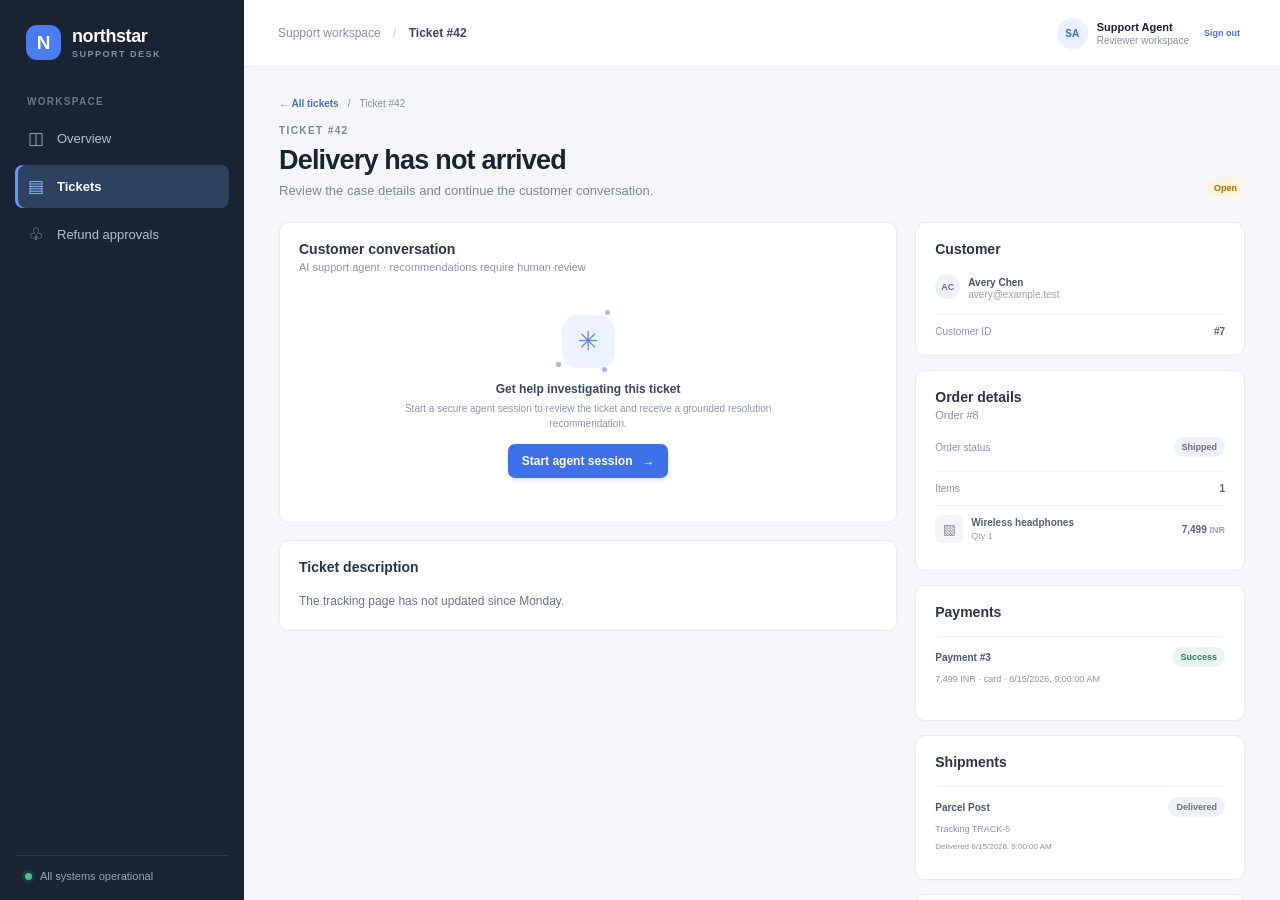
Test: support dashboard › loads ticket and order details, starts an agent session, and shows execution state
The image size is (1280, 900).
Expected: the text "Avery Chen" is shown, [968,277,1024,288]
Expected: the text "Wireless headphones" is shown, [971,517,1074,528]
Click the button "Start agent session →". click: coordinates (588, 461)
box: [508,444,668,478]
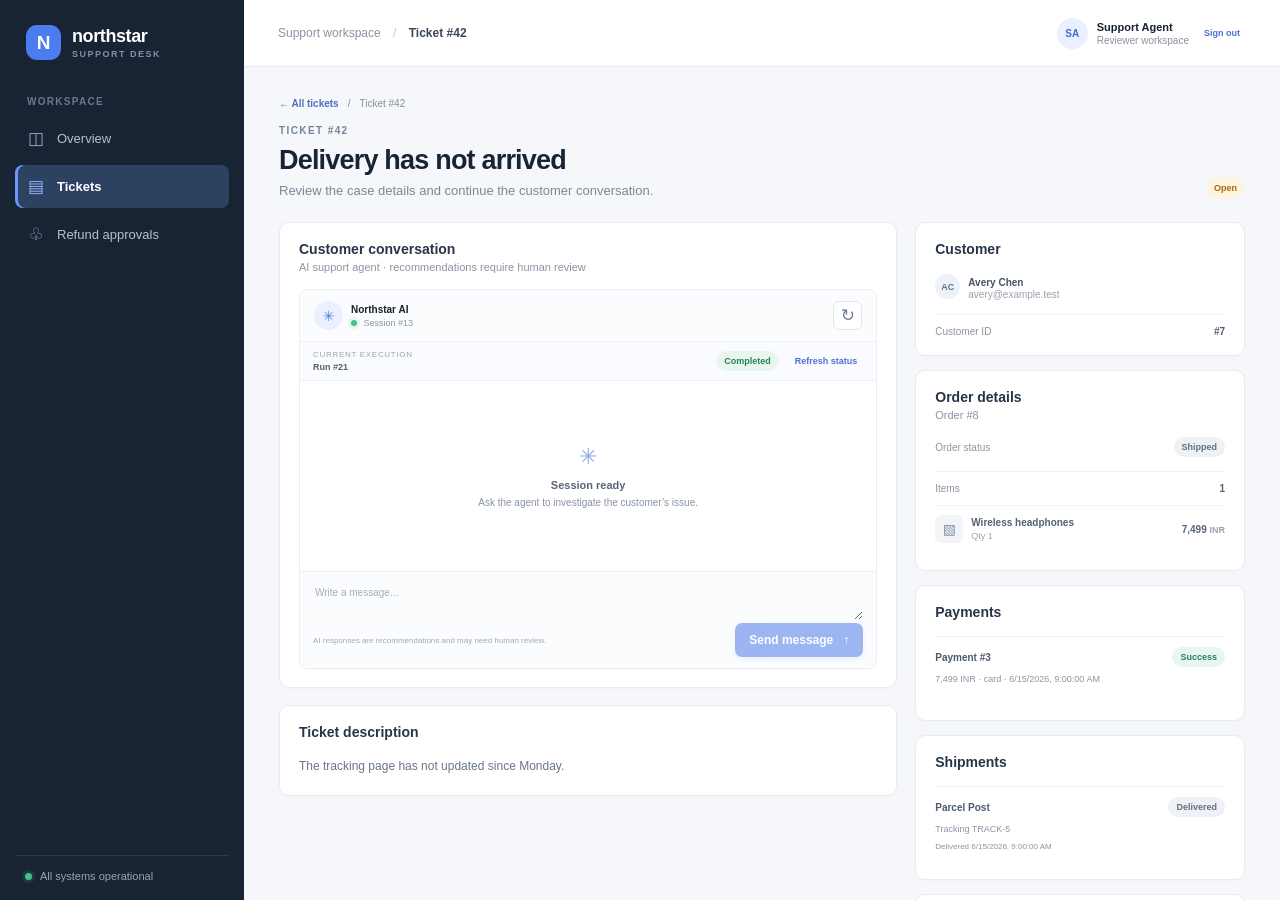
Result: the text "Run #21" is shown at [313,362,348,372]
Result: the text "completed" is shown at [716,351,779,371]
